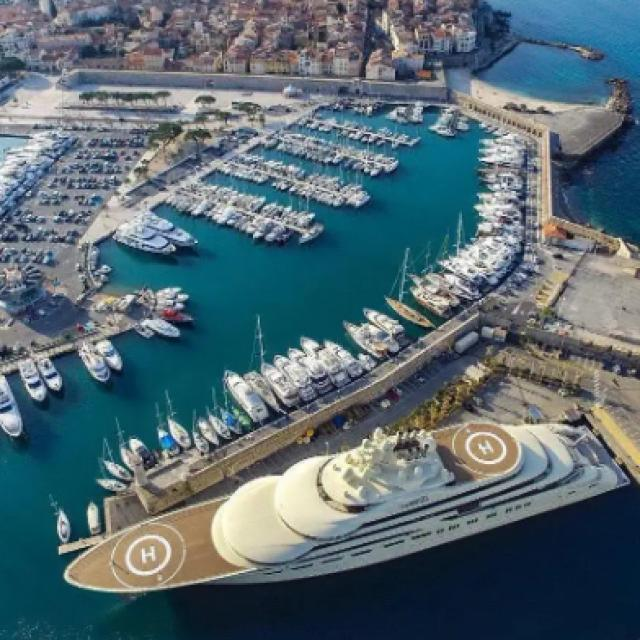houseboat: (222, 336, 361, 421), (343, 294, 435, 356), (152, 404, 237, 454), (111, 211, 196, 257), (134, 279, 192, 339), (93, 434, 154, 489), (25, 350, 63, 397), (0, 367, 23, 441), (86, 334, 122, 380), (83, 497, 102, 535), (53, 503, 70, 545)
passenger ship: (57, 416, 633, 597)
